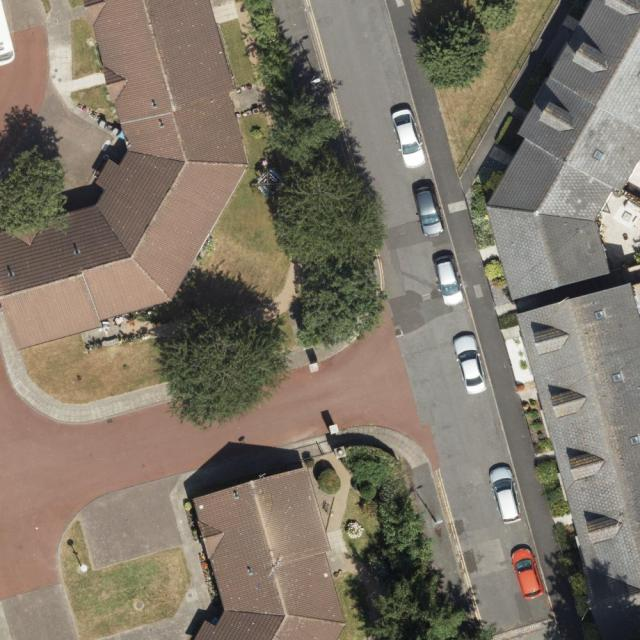roof: (486, 0, 640, 604), (0, 0, 248, 351), (191, 466, 347, 640)
skylight: (609, 368, 625, 386), (591, 146, 605, 163), (592, 307, 606, 322), (627, 434, 638, 448)
